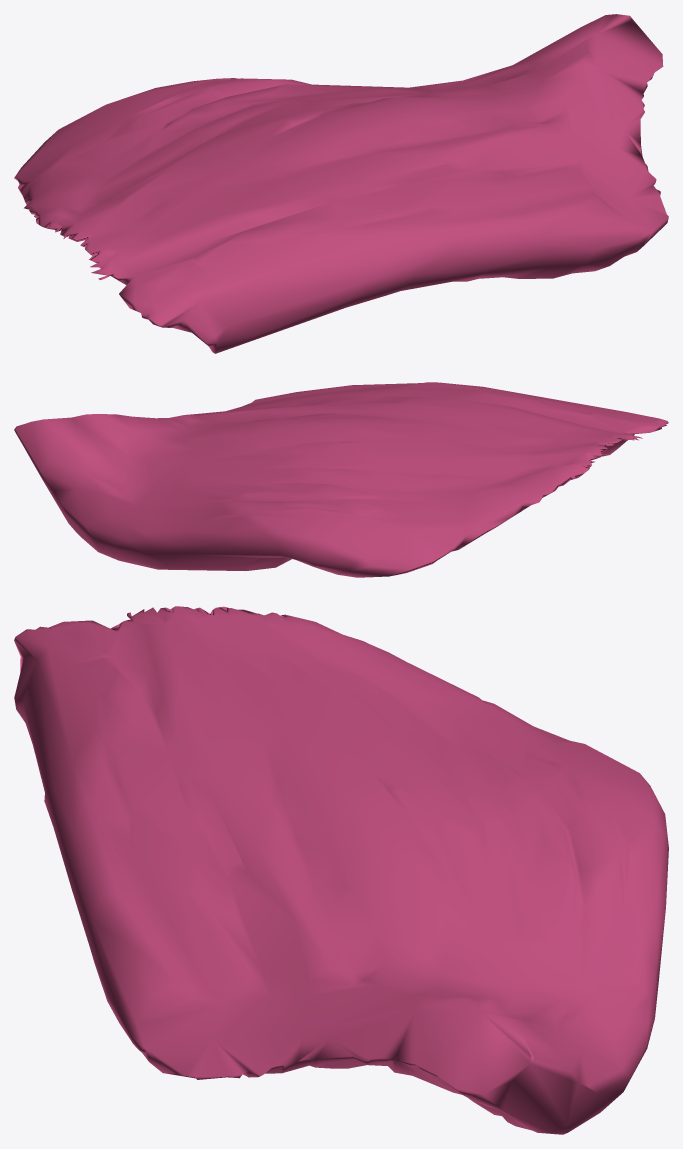
3 views of the same model, one above another, from view 1: azimuth 30°, elevation 25°; view 2: azimuth 150°, elevation 25°; view 3: azimuth 270°, elevation 25° (orthographic). The views are drawn at different scales.
Visible parts, largest first — view 1: 右侧股方肌; view 2: 右侧股方肌; view 3: 右侧股方肌.
Boxes of the visible parts, x1,y1,x2,y2 form: 右侧股方肌: (14,14,668,353); 右侧股方肌: (14,382,668,577); 右侧股方肌: (14,606,668,1134).
Size of the model in its own units: 0.1009 by 0.0238 by 0.0674.
